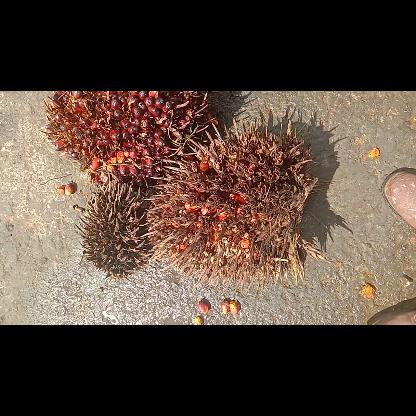Janjang kosong: (76, 175, 152, 276)
TBS masak: (40, 91, 208, 183)
Terlalu masak: (142, 118, 318, 292)
